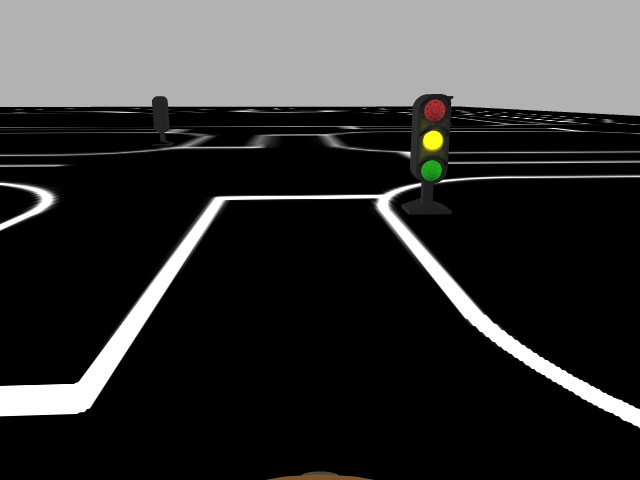yellow_light: (409, 94, 456, 184)
